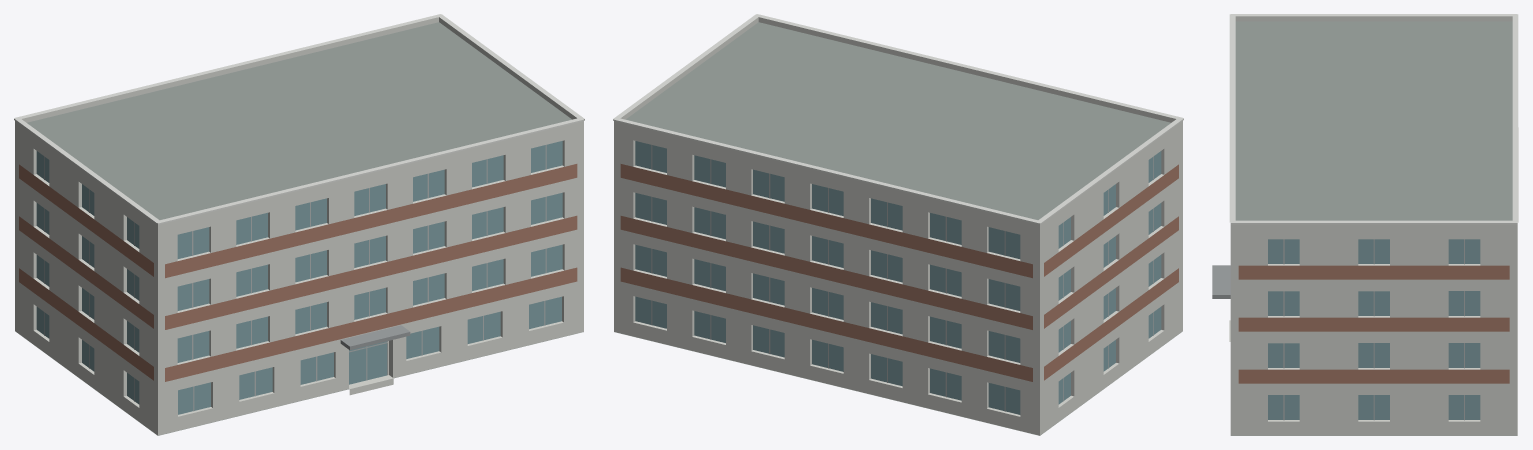
The picture shows the model from 3 angles, left to right: view 1: azimuth 30°, elevation 25°; view 2: azimuth 150°, elevation 25°; view 3: azimuth 270°, elevation 25°; orthographic projection.
Parts seen in each view (by area): view 1: osm761589238__wall, osm761589238__roof, osm761589238__glass, osm761589238__wall2, osm761589238__trim, osm761589238__parapet, osm761589238__frame, osm761589238__canopy; view 2: osm761589238__wall, osm761589238__roof, osm761589238__glass, osm761589238__wall2, osm761589238__trim, osm761589238__parapet, osm761589238__frame; view 3: osm761589238__roof, osm761589238__wall, osm761589238__wall2, osm761589238__glass, osm761589238__trim, osm761589238__parapet, osm761589238__canopy, osm761589238__frame.
Boxes of the visible parts, x1,y1,x2,y2 form: osm761589238__wall: [15, 123, 583, 435]; osm761589238__roof: [15, 22, 583, 435]; osm761589238__glass: [36, 141, 562, 414]; osm761589238__wall2: [19, 164, 577, 381]; osm761589238__trim: [14, 14, 584, 224]; osm761589238__parapet: [15, 17, 583, 227]; osm761589238__frame: [44, 145, 546, 411]; osm761589238__canopy: [340, 325, 410, 350]; osm761589238__wall: [614, 124, 1182, 435]; osm761589238__roof: [614, 22, 1182, 435]; osm761589238__glass: [635, 141, 1161, 414]; osm761589238__wall2: [620, 164, 1178, 381]; osm761589238__trim: [613, 14, 1183, 224]; osm761589238__parapet: [614, 17, 1182, 227]; osm761589238__frame: [651, 145, 1153, 411]; osm761589238__roof: [1231, 21, 1517, 435]; osm761589238__wall: [1230, 227, 1517, 435]; osm761589238__wall2: [1238, 265, 1509, 383]; osm761589238__glass: [1268, 239, 1480, 419]; osm761589238__trim: [1229, 14, 1518, 224]; osm761589238__parapet: [1230, 16, 1517, 227]; osm761589238__canopy: [1212, 265, 1230, 298]; osm761589238__frame: [1283, 239, 1464, 420].
Bounding box in the file's own units: 31.06 × 15.15 × 19.21.
